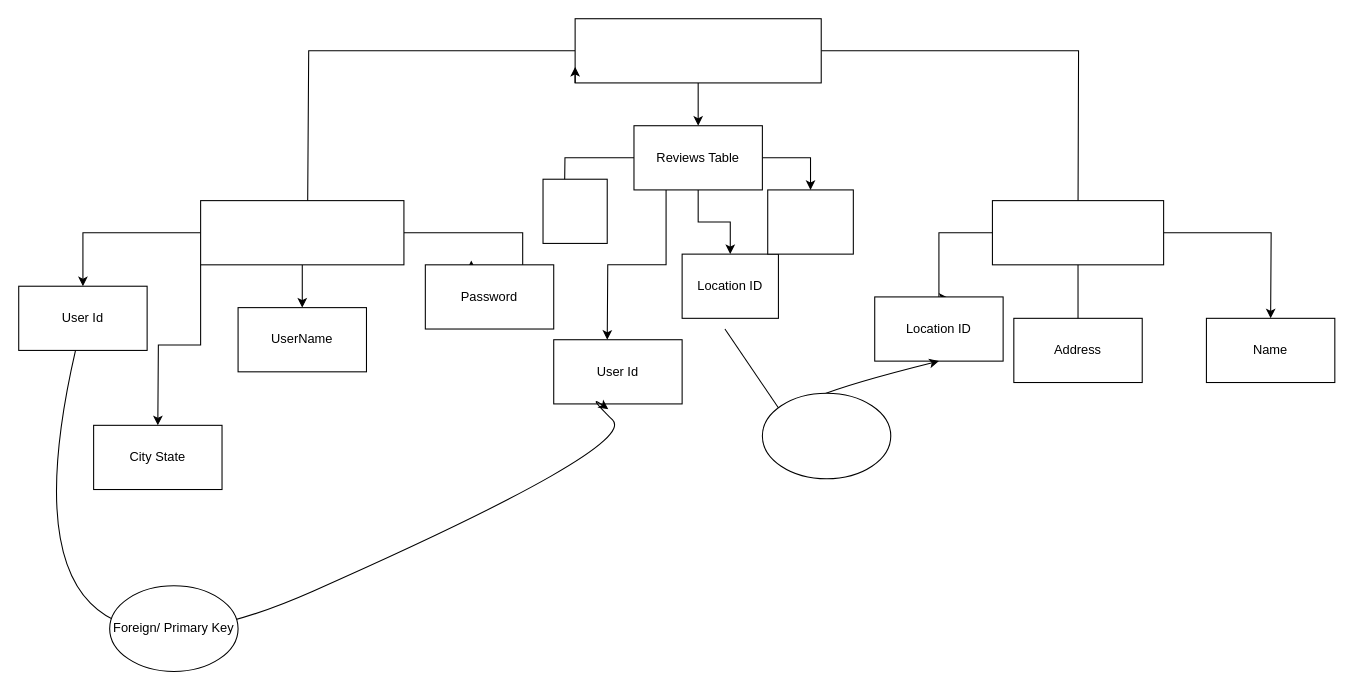
The diagram is 1354 pixels wide and 690 high, and some of its shapes have lost their labels. Each missing label, with the centre of its shape:
Location Table: point (1077, 232)
Project Database: point (697, 50)
Rating: point (574, 210)
Rating Description: point (810, 221)
Users Table: point (302, 232)
